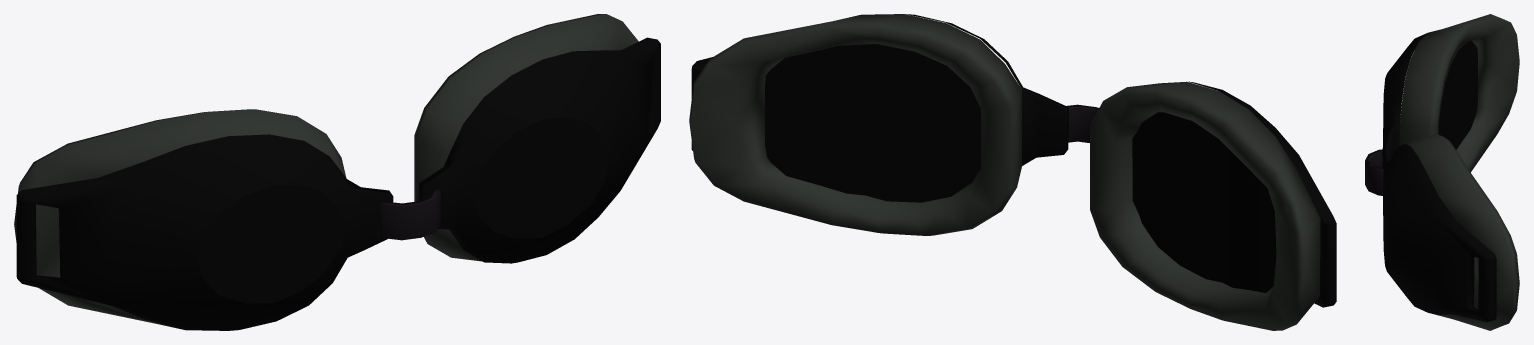
Rendered from AccessoryGlassGoggles0.glb.
3 views of the same model, side by side, from view 1: azimuth 30°, elevation 25°; view 2: azimuth 150°, elevation 25°; view 3: azimuth 270°, elevation 25° (orthographic). The views are drawn at different scales.
Visible parts, largest first — view 1: AccessoryAlpha__mAccessoryAlpha, Accessory__mAccessory; view 2: Accessory__mAccessory, AccessoryAlpha__mAccessoryAlpha; view 3: Accessory__mAccessory, AccessoryAlpha__mAccessoryAlpha.
Part boxes in pixels (bbox=[...]): AccessoryAlpha__mAccessoryAlpha: bbox=[16, 37, 660, 330]; Accessory__mAccessory: bbox=[14, 14, 638, 330]; Accessory__mAccessory: bbox=[689, 14, 1320, 330]; AccessoryAlpha__mAccessoryAlpha: bbox=[691, 14, 1336, 307]; Accessory__mAccessory: bbox=[1365, 14, 1519, 330]; AccessoryAlpha__mAccessoryAlpha: bbox=[1382, 33, 1496, 322].
Bounding box in the file's own units: 6.8 × 2.14 × 1.89.
Materials: 2 (2 with a texture image).
